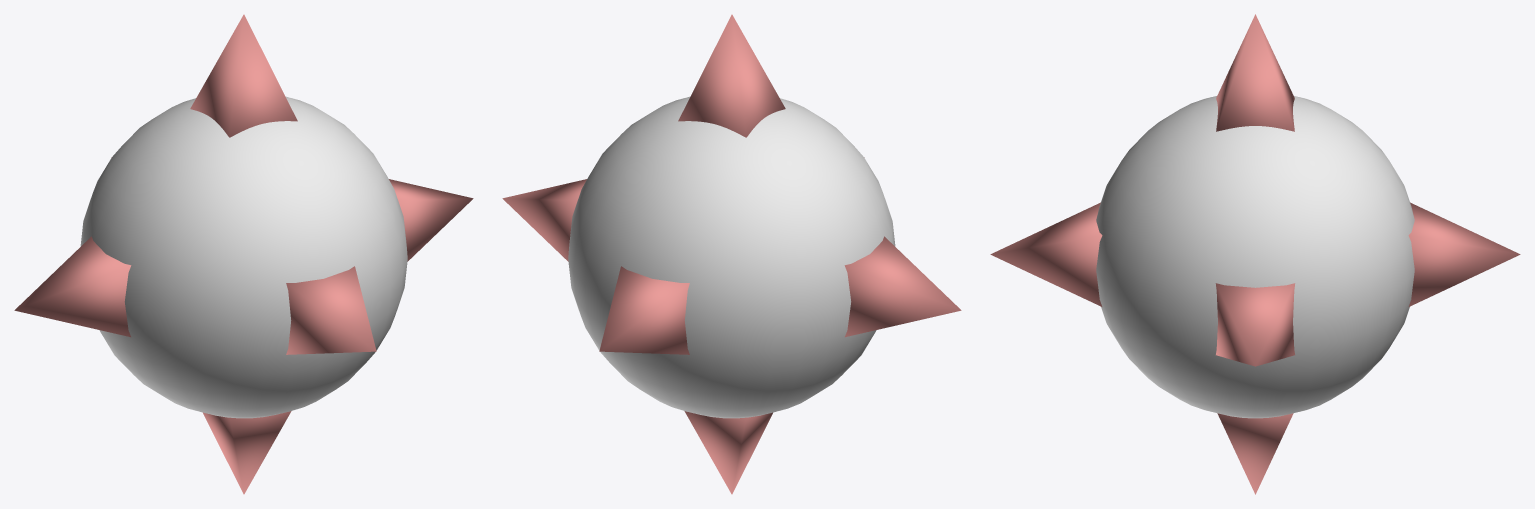
Rendered from Bomb.fbx.
3 views of the same model, side by side, from view 1: azimuth 30°, elevation 25°; view 2: azimuth 150°, elevation 25°; view 3: azimuth 270°, elevation 25° (orthographic).
Visible parts, largest first — view 1: Bomb, Cone, Cone.007, Cone.001, Cone.002, Cone.005; view 2: Bomb, Cone, Cone.007, Cone.003, Cone.002, Cone.005; view 3: Bomb, Cone.005, Cone, Cone.001, Cone.003, Cone.002.
Boxes of the visible parts, left/top/right/bottom form: Bomb: left=80, top=96, right=407, bottom=418; Cone: left=190, top=14, right=297, bottom=137; Cone.007: left=14, top=236, right=131, bottom=337; Cone.001: left=286, top=266, right=376, bottom=354; Cone.002: left=203, top=411, right=291, bottom=494; Cone.005: left=389, top=179, right=473, bottom=261; Bomb: left=568, top=96, right=895, bottom=418; Cone: left=678, top=14, right=785, bottom=137; Cone.007: left=844, top=236, right=961, bottom=337; Cone.003: left=599, top=266, right=689, bottom=354; Cone.002: left=684, top=411, right=772, bottom=494; Cone.005: left=502, top=179, right=586, bottom=261; Bomb: left=1096, top=96, right=1414, bottom=418; Cone.005: left=1215, top=283, right=1295, bottom=366; Cone: left=1216, top=14, right=1294, bottom=131; Cone.001: left=990, top=202, right=1102, bottom=306; Cone.003: left=1408, top=202, right=1520, bottom=306; Cone.002: left=1217, top=413, right=1293, bottom=494.
Bounding box in the file's own units: 323 × 323 × 323.
